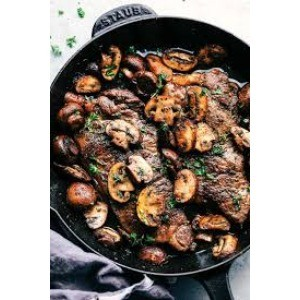mushroom_brain food: (90, 85, 225, 218)
